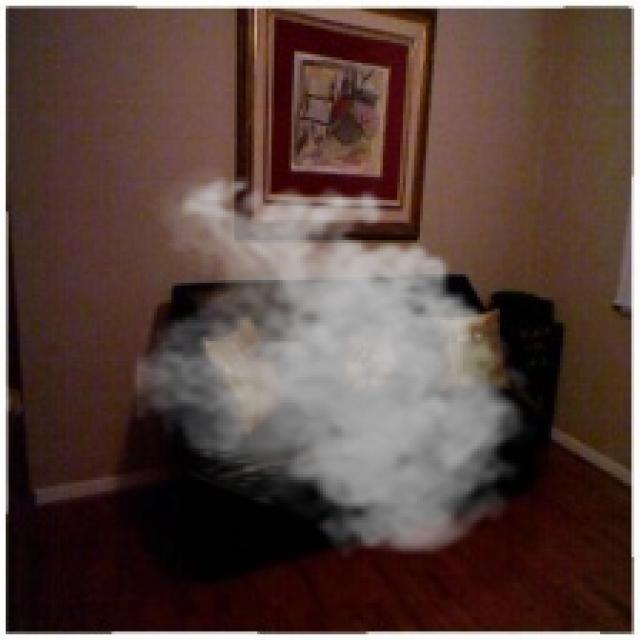smoke: (132, 163, 537, 563)
